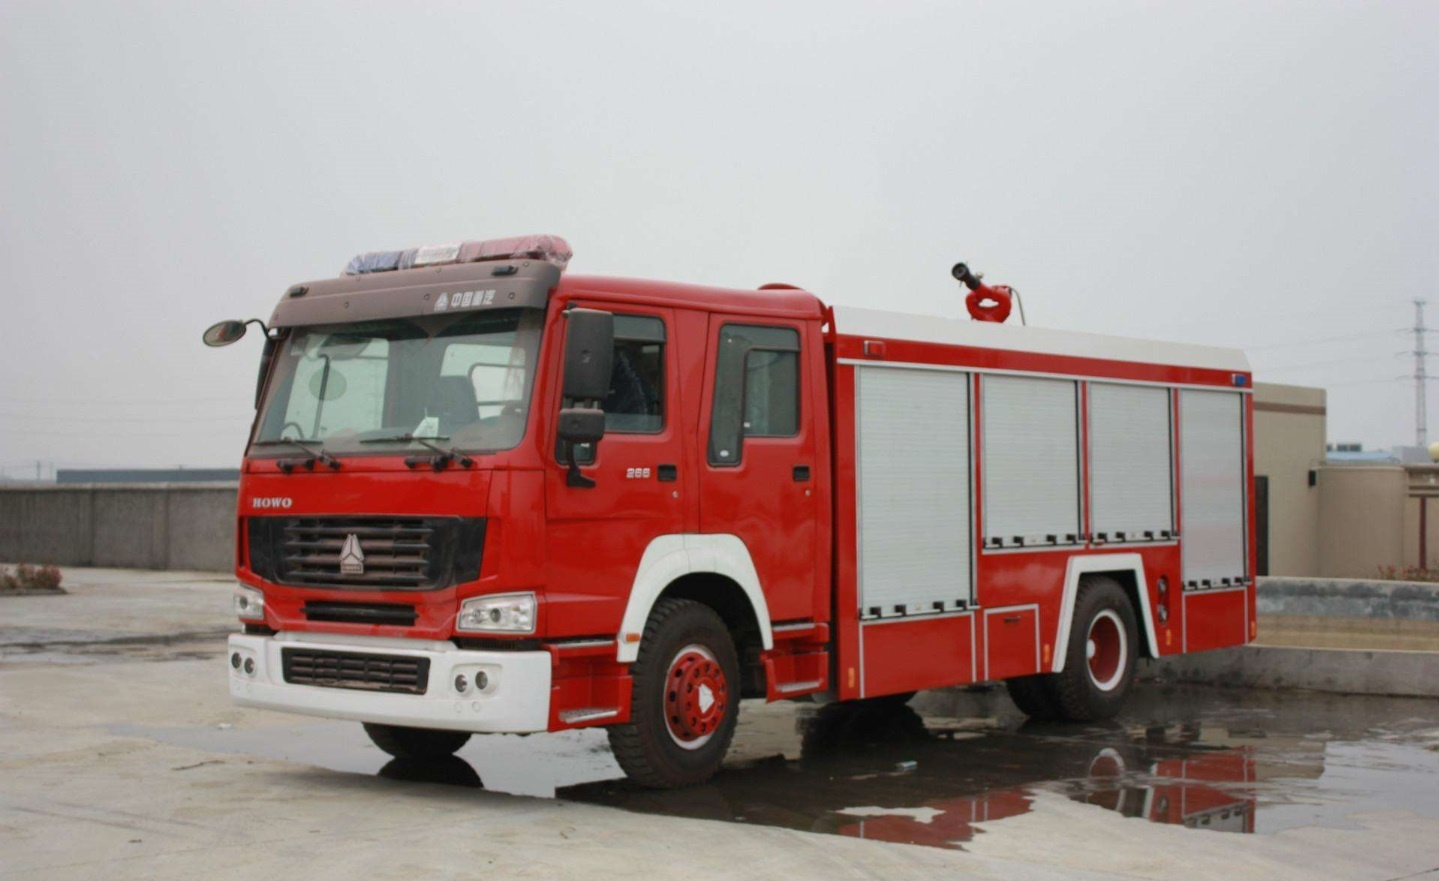fire engine: (202, 217, 1281, 790)
